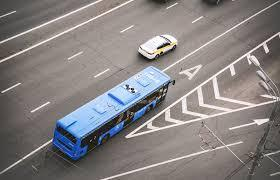bus_line: (0, 0, 279, 179)
